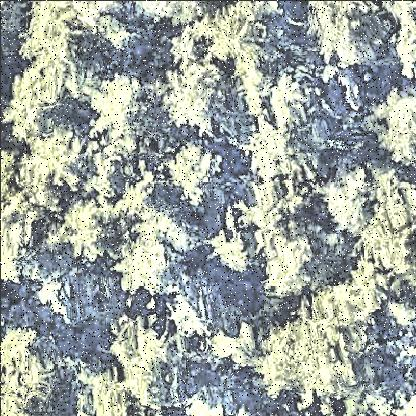tree-top: (257, 321, 351, 407), (307, 1, 385, 71), (117, 318, 177, 407), (188, 6, 265, 71), (165, 55, 228, 134), (1, 322, 55, 414), (85, 75, 155, 144), (322, 165, 386, 238), (161, 138, 225, 206), (115, 234, 180, 300), (23, 132, 86, 198), (54, 197, 113, 266), (261, 232, 321, 299), (4, 62, 53, 144), (371, 88, 416, 168), (204, 223, 254, 279), (176, 391, 239, 416)
